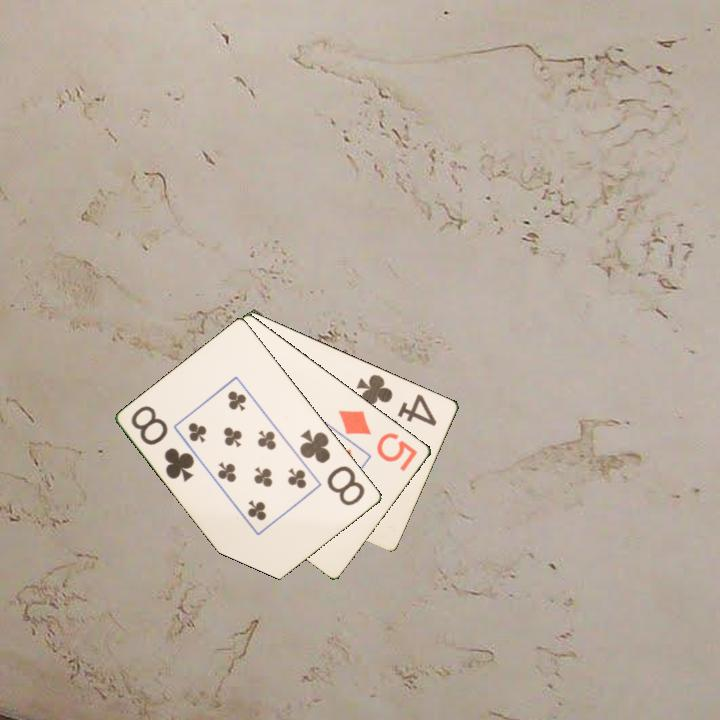4c: (353, 370, 440, 429)
5d: (335, 406, 421, 474)
8c: (296, 425, 368, 509), (128, 402, 198, 485)
